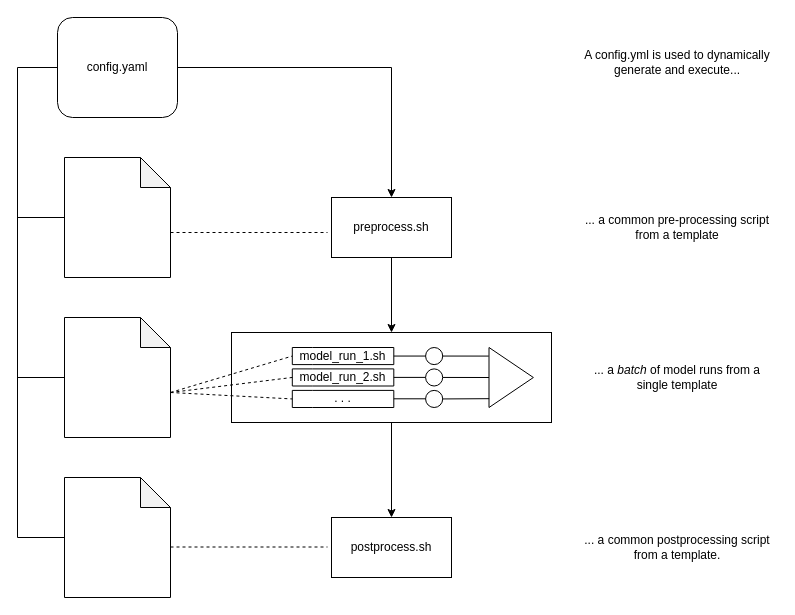
Some shapes in this 795 by 615 pixel diagram are drawn without their labels. Here are the shapes that lost their labels. From the top down, the centre of each, then its label:
At (x=117, y=217): "preprocess.sh.j2".
At (x=117, y=377): "model_run_n.sh.j2".
At (x=117, y=537): "postprocess.sh.j2".
